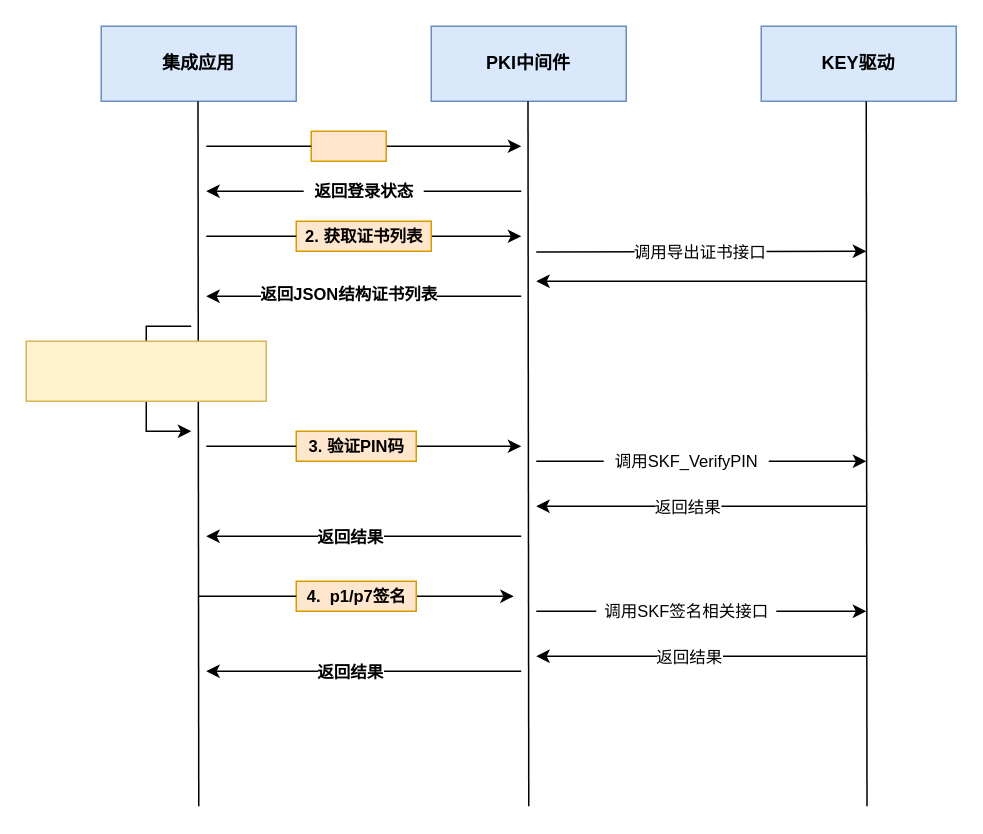
Some shapes in this 983 by 834 pixel diagram are drawn without their labels. Here are the shapes that lost their labels. From the top down, the box of each, then its label:
(310, 130, 386, 161): 1. 登录
(25, 340, 266, 401): a. 过滤证书 b. 拿到需要签名证书对应的 devid、appName、conName
